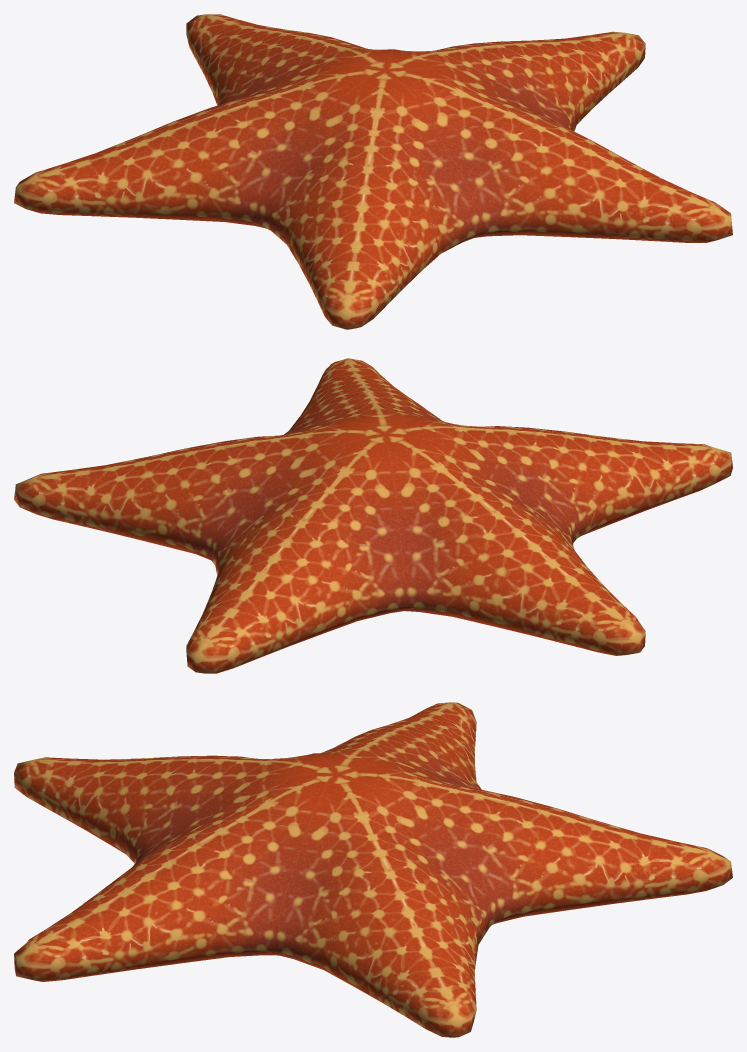
Rendered from Starfish.fbx.
The picture shows the model from 3 angles, top to bottom: view 1: azimuth 30°, elevation 25°; view 2: azimuth 150°, elevation 25°; view 3: azimuth 270°, elevation 25°; orthographic projection. The views are drawn at different scales.
Visible parts, largest first — view 1: Starfish; view 2: Starfish; view 3: Starfish.
Boxes of the visible parts, x1,y1,x2,y2 form: Starfish: [14, 14, 732, 329]; Starfish: [14, 358, 732, 673]; Starfish: [14, 702, 732, 1037].
Size of the model in its own units: 217 by 36 by 207.
1 material, 1 textured.
